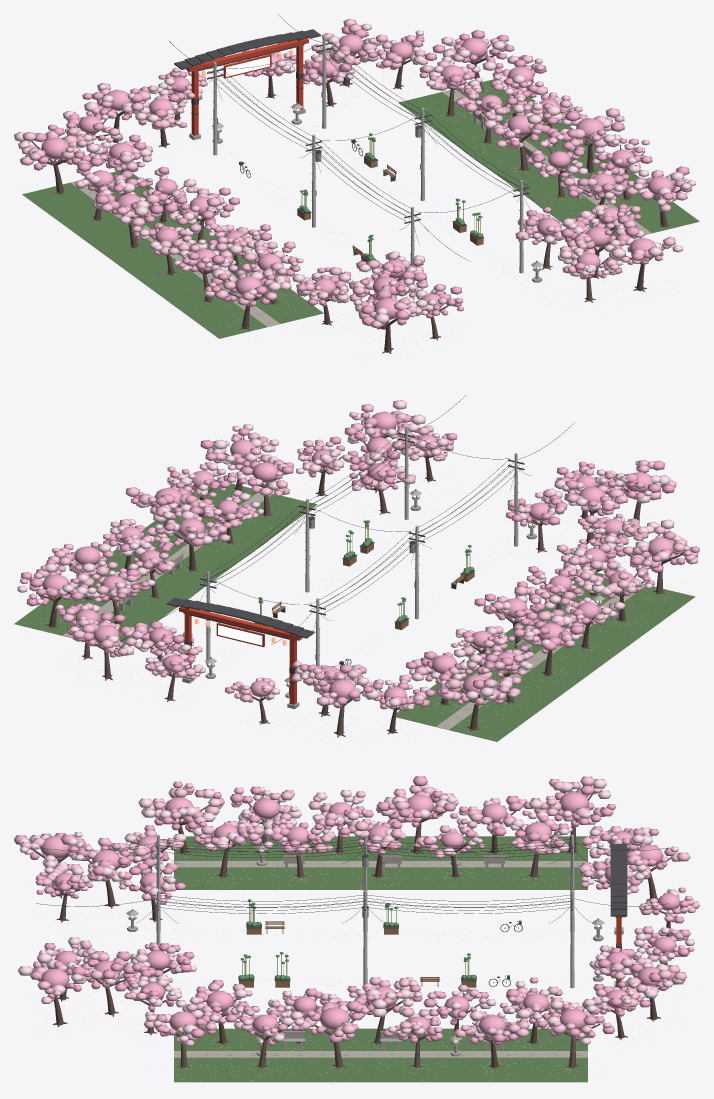
Rendered from street-decor.glb.
3 renders of one model, top to bottom at view 1: azimuth 30°, elevation 25°; view 2: azimuth 150°, elevation 25°; view 3: azimuth 270°, elevation 25°, orthographic. The views are drawn at different scales.
Visible parts, largest first — view 1: decor:sakura blossom 1, decor:park lawn, decor:sakura blossom 0, decor:sakura blossom 2, decor:cherry bark, decor:power wire, decor:dark steel, decor:concrete pole, decor:gate vermilion, decor:gravel path, decor:weathered granite, decor:fallen petal; view 2: decor:sakura blossom 1, decor:park lawn, decor:sakura blossom 0, decor:sakura blossom 2, decor:cherry bark, decor:power wire, decor:dark steel, decor:concrete pole, decor:gate vermilion, decor:gravel path, decor:weathered granite, decor:fallen petal; view 3: decor:sakura blossom 1, decor:park lawn, decor:sakura blossom 0, decor:sakura blossom 2, decor:cherry bark, decor:power wire, decor:gravel path, decor:weathered granite, decor:concrete pole, decor:dark steel, decor:fallen petal, decor:cedar wood (+1 smaller).
Part boxes in pixels (left/top/right/bottom): decor:sakura blossom 1: left=23, top=26, right=691, bottom=327; decor:park lawn: left=22, top=79, right=699, bottom=338; decor:sakura blossom 0: left=20, top=19, right=687, bottom=328; decor:sakura blossom 2: left=14, top=23, right=695, bottom=323; decor:cherry bark: left=31, top=39, right=682, bottom=353; decor:power wire: left=169, top=14, right=579, bottom=261; decor:dark steel: left=174, top=29, right=529, bottom=263; decor:concrete pole: left=213, top=35, right=523, bottom=299; decor:gate vermilion: left=186, top=38, right=308, bottom=135; decor:gravel path: left=70, top=89, right=651, bottom=326; decor:weathered granite: left=88, top=92, right=644, bottom=323; decor:fallen petal: left=20, top=74, right=696, bottom=362; decor:sakura blossom 1: left=20, top=411, right=699, bottom=711; decor:park lawn: left=14, top=479, right=695, bottom=741; decor:sakura blossom 0: left=20, top=404, right=698, bottom=706; decor:sakura blossom 2: left=17, top=400, right=698, bottom=710; decor:cherry bark: left=38, top=430, right=683, bottom=737; decor:power wire: left=162, top=395, right=574, bottom=644; decor:dark steel: left=166, top=433, right=524, bottom=683; decor:concrete pole: left=206, top=426, right=518, bottom=667; decor:gate vermilion: left=179, top=607, right=302, bottom=704; decor:gravel path: left=62, top=492, right=644, bottom=729; decor:weathered granite: left=102, top=489, right=626, bottom=726; decor:fallen petal: left=18, top=453, right=689, bottom=747; decor:sakura blossom 1: left=14, top=776, right=694, bottom=1045; decor:park lawn: left=174, top=836, right=587, bottom=1082; decor:sakura blossom 0: left=20, top=776, right=699, bottom=1046; decor:sakura blossom 2: left=18, top=779, right=694, bottom=1044; decor:cherry bark: left=32, top=791, right=680, bottom=1069; decor:power wire: left=36, top=839, right=668, bottom=923; decor:gravel path: left=174, top=861, right=587, bottom=1057; decor:weathered granite: left=126, top=843, right=623, bottom=1056; decor:concrete pole: left=156, top=834, right=574, bottom=988; decor:dark steel: left=158, top=844, right=627, bottom=986; decor:fallen petal: left=24, top=835, right=697, bottom=1084; decor:cedar wood: left=239, top=921, right=476, bottom=987.
Size of the model in its own units: 46.51 by 8.24 by 53.03.
